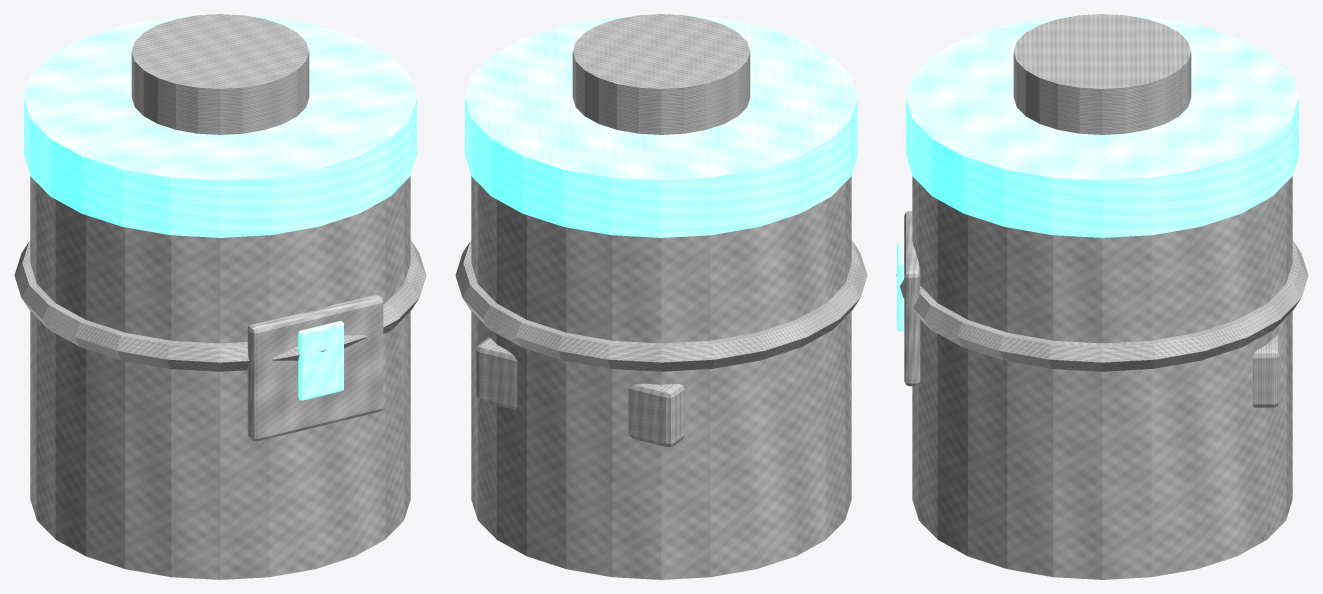
Rendered from item-packaged-fuel_variant_d.glb.
The picture shows the model from 3 angles, left to right: view 1: azimuth 30°, elevation 25°; view 2: azimuth 150°, elevation 25°; view 3: azimuth 270°, elevation 25°; orthographic projection.
Visible parts, largest first — view 1: Container shell, Container top, Container cap, Fluid label.003, Container seam, Fill window.003; view 2: Container shell, Container top, Container cap, Container seam, Variant modular rail; view 3: Container shell, Container top, Container cap, Container seam, Fluid label.003, Variant modular rail, Fill window.003.
Part boxes in pixels (box(x1,y1,x2,y2)): Container shell: box(30, 176, 410, 579); Container top: box(24, 16, 416, 237); Container cap: box(131, 14, 309, 134); Fluid label.003: box(247, 294, 383, 441); Container seam: box(14, 240, 426, 371); Fill window.003: box(298, 321, 343, 400); Container shell: box(471, 176, 851, 579); Container top: box(465, 16, 857, 237); Container cap: box(572, 14, 750, 134); Container seam: box(455, 240, 867, 371); Variant modular rail: box(476, 337, 685, 446); Container shell: box(912, 176, 1292, 579); Container top: box(906, 16, 1298, 237); Container cap: box(1013, 14, 1191, 134); Container seam: box(896, 240, 1308, 371); Fluid label.003: box(904, 211, 920, 386); Variant modular rail: box(1252, 335, 1279, 407); Fill window.003: box(897, 243, 904, 331).
Size of what is drawn, in the model's own units: 0.65 by 0.78 by 0.65.
7 materials, 7 textured.
